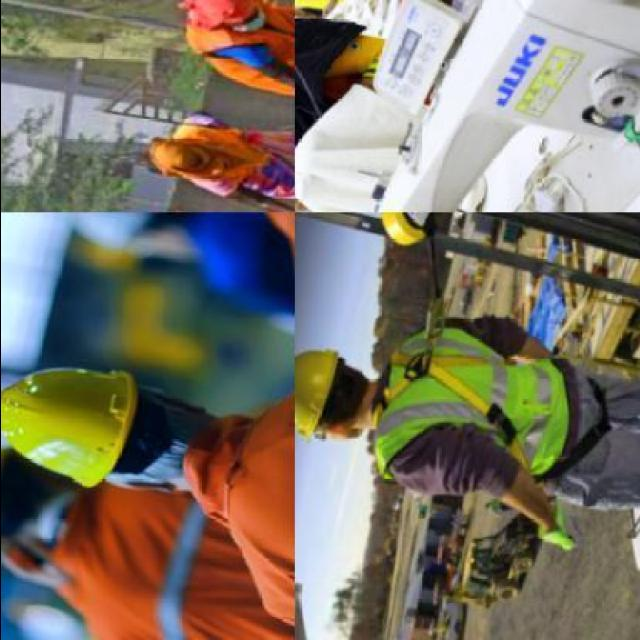helmet: (1, 354, 142, 494), (288, 344, 342, 442)
jacket: (364, 310, 574, 507)
